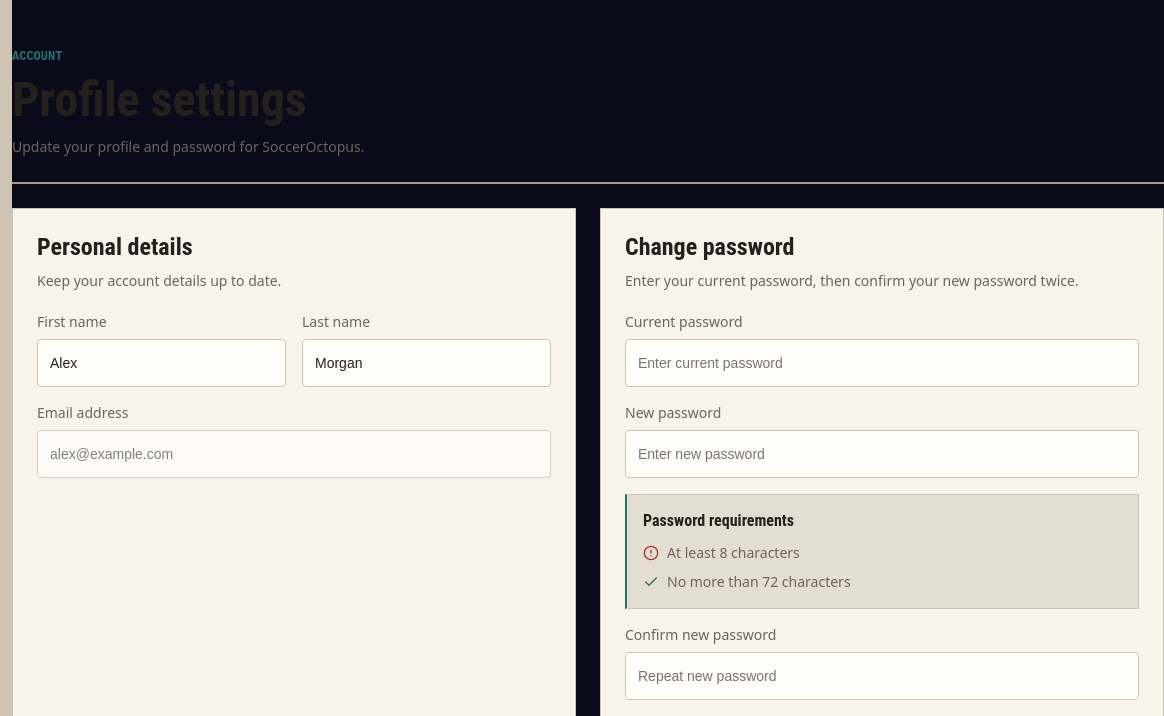
ProfileView › blocks profile password updates that fail policy
The width and height of the screenshot is (1164, 716).
Type "current-pass" into the password field labelled "Current password". click: coordinates (882, 363)
box: x1=625 y1=339 x2=1139 y2=387
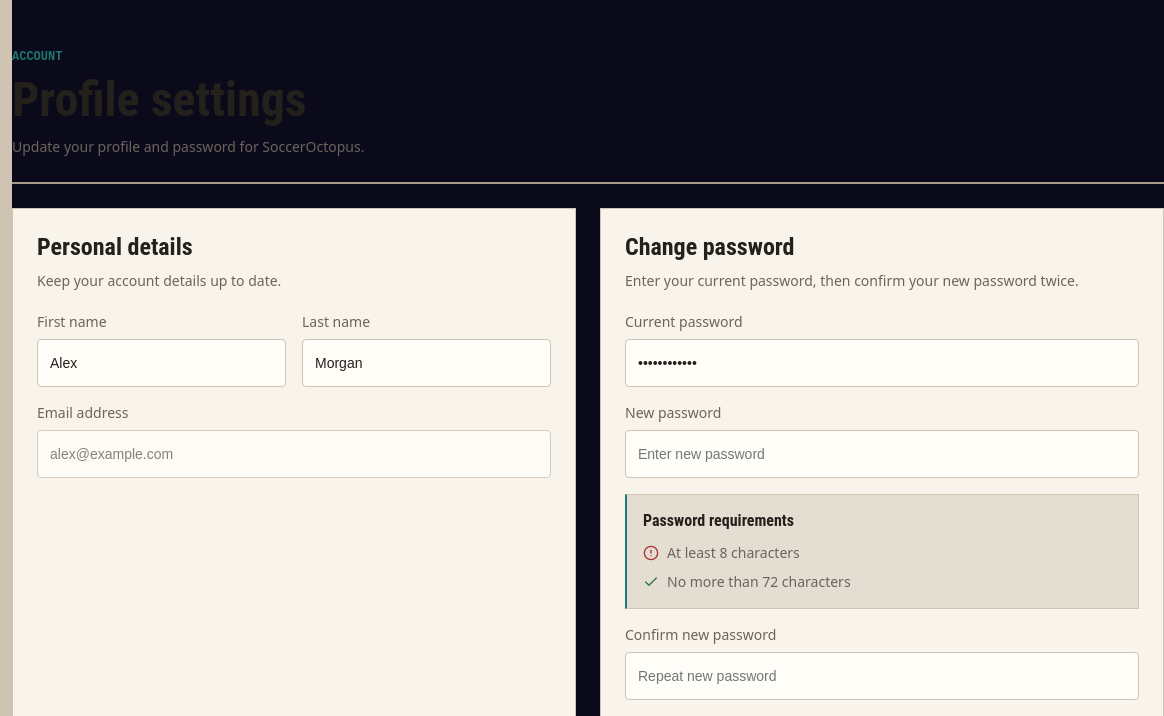
Type "short" into the password field labelled "New password". click: coordinates (882, 454)
box: x1=625 y1=430 x2=1139 y2=478
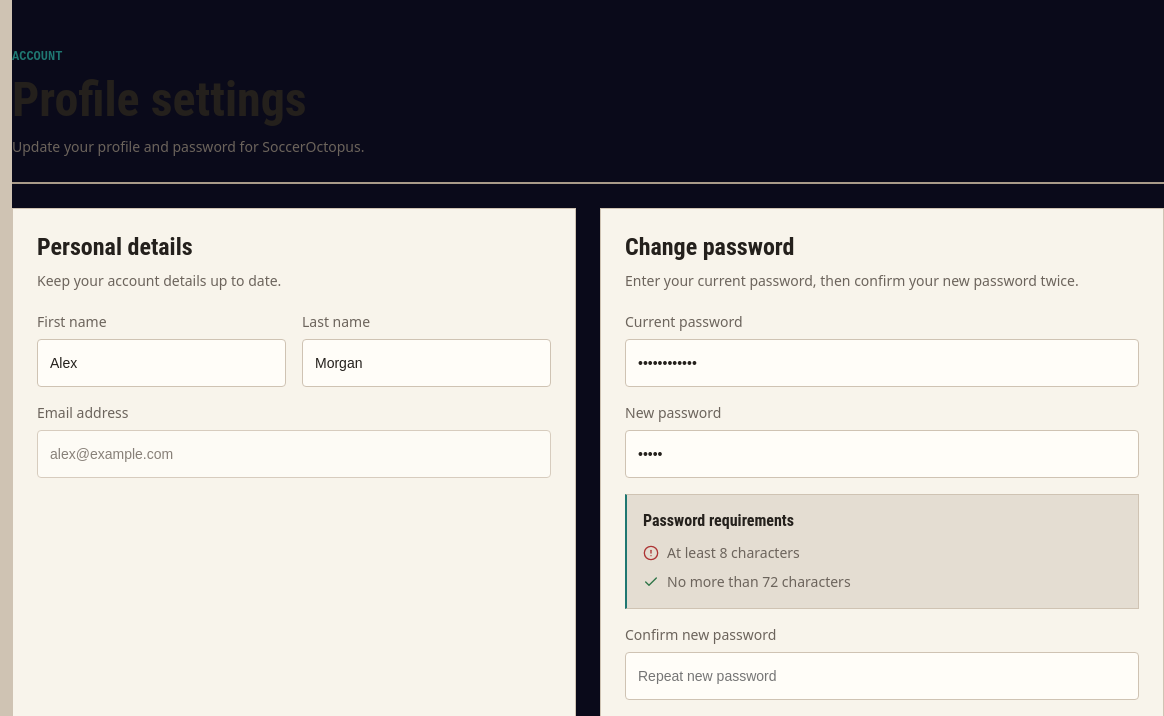
Type "short" into the password field labelled "Confirm new password". click: coordinates (882, 676)
box: x1=625 y1=652 x2=1139 y2=700
(page scrolled)
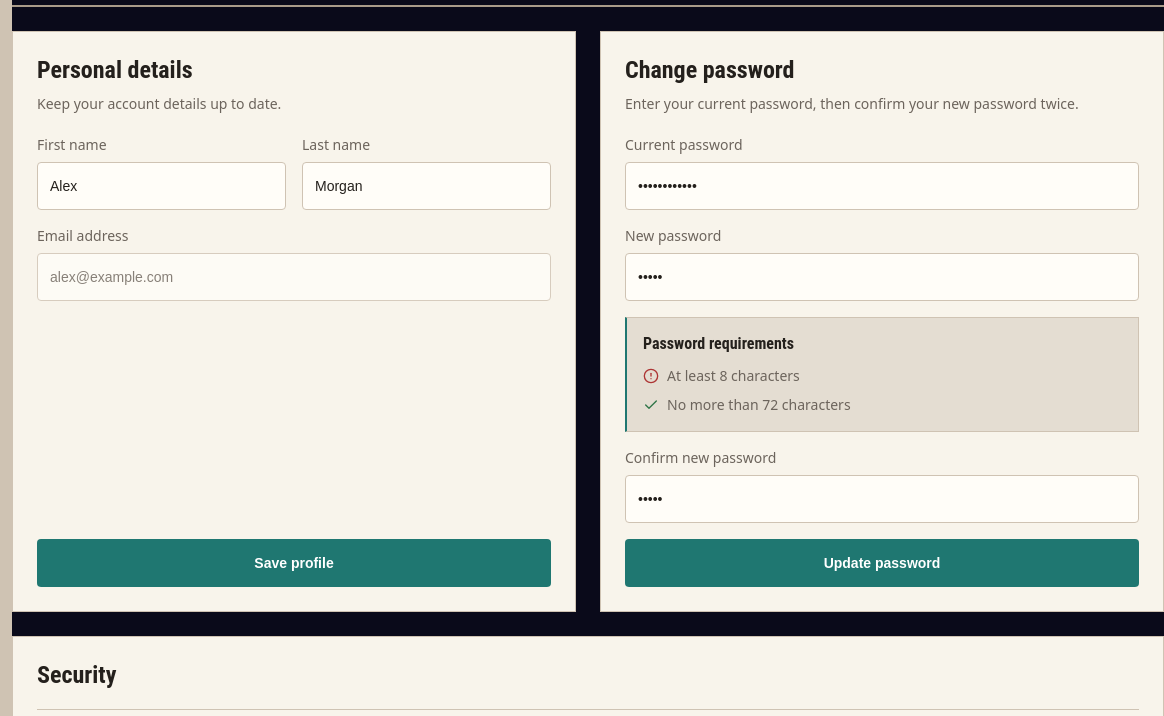
Submit the form that starts with "Current password", box x1=625 y1=135 x2=1139 y2=587
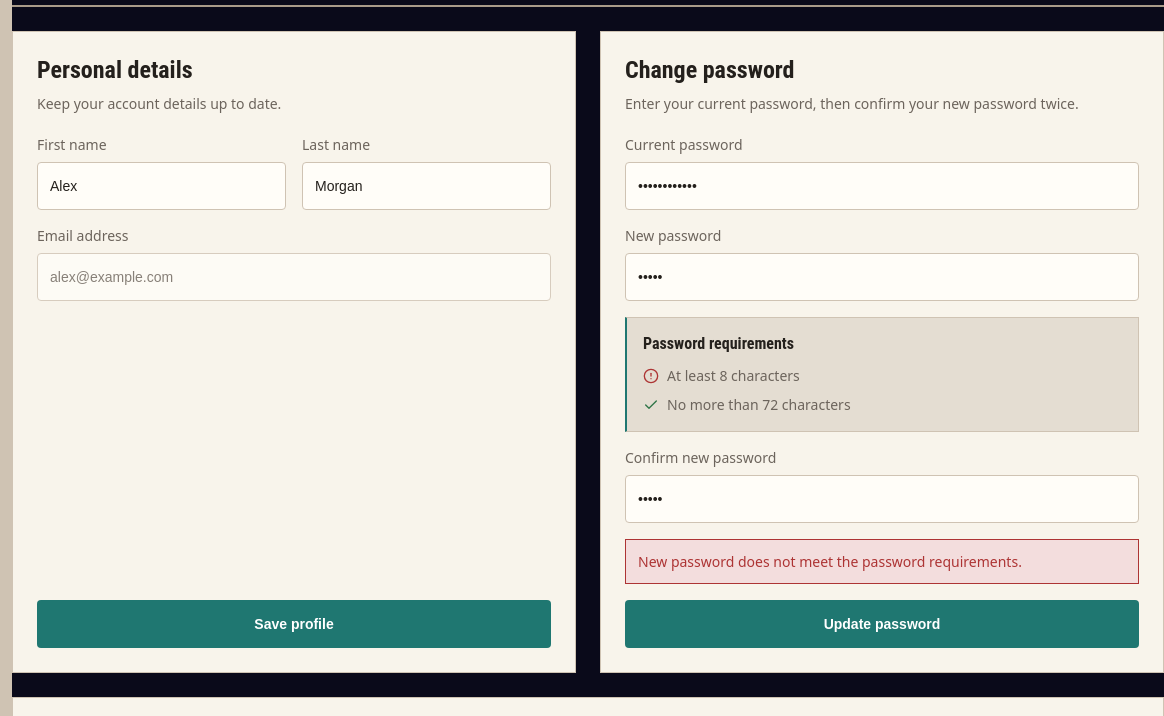
Expected: the text "New password does not meet the password requirements." is shown, x1=625 y1=539 x2=1139 y2=584
